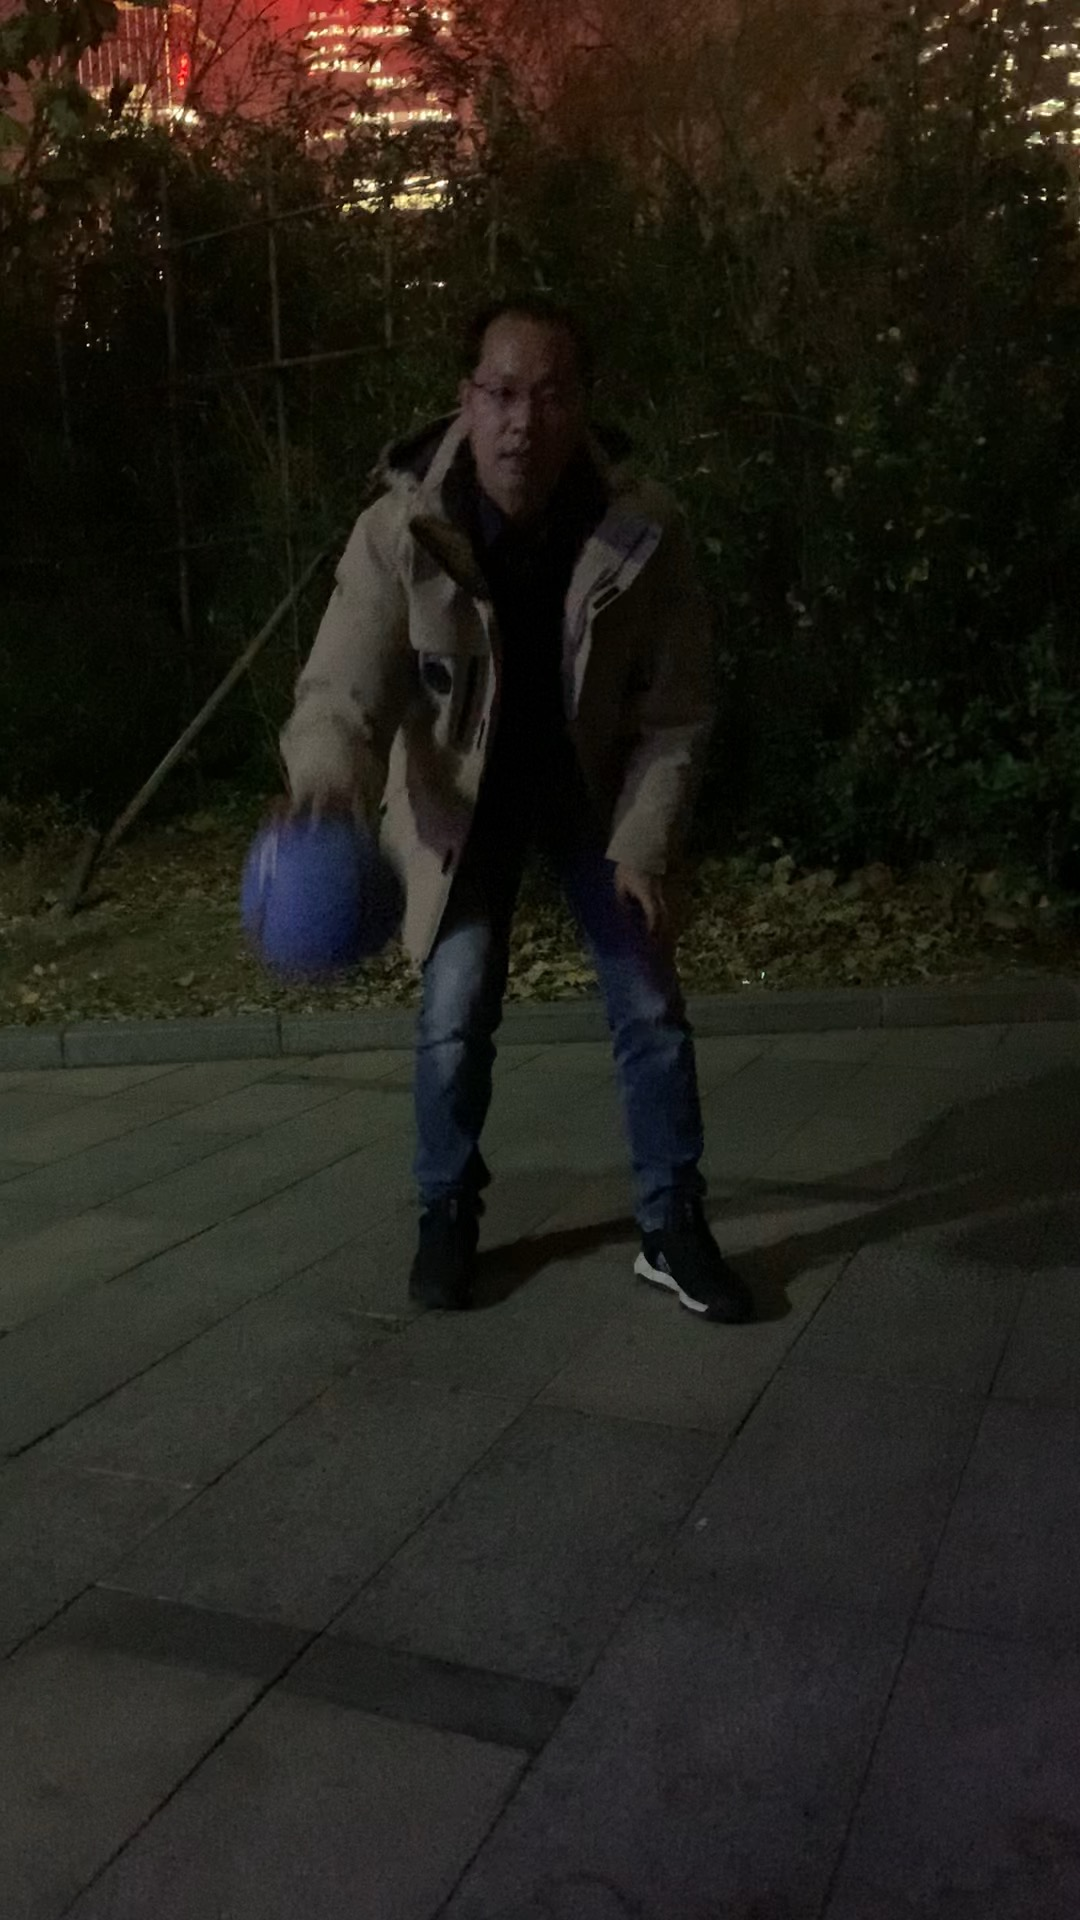ball: (243, 814, 413, 982)
